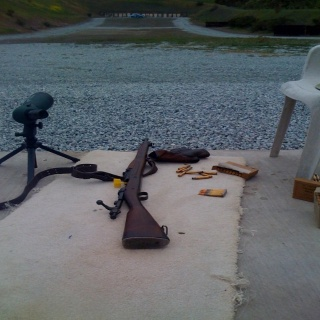rifle: (95, 136, 174, 253)
